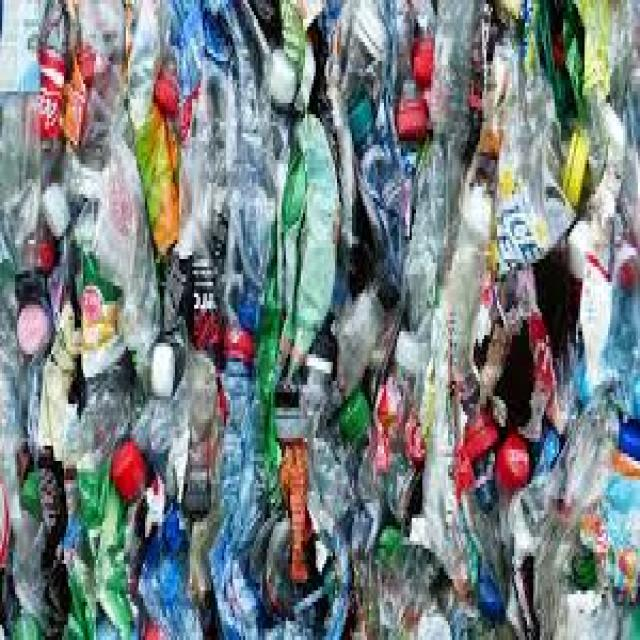plastic: (0, 0, 638, 636), (425, 172, 508, 617), (199, 0, 280, 324), (64, 122, 158, 366), (207, 320, 269, 636), (495, 0, 589, 202), (273, 107, 335, 377), (0, 0, 59, 274), (130, 335, 222, 507), (448, 381, 514, 617), (177, 57, 233, 335), (75, 427, 149, 636), (470, 271, 564, 435), (354, 324, 425, 526), (459, 141, 570, 270), (262, 492, 350, 637), (307, 0, 356, 251), (4, 503, 94, 636), (401, 149, 465, 332), (563, 214, 619, 393), (134, 495, 205, 636), (561, 69, 625, 214), (358, 518, 433, 636), (130, 99, 184, 251), (604, 0, 638, 240), (62, 0, 126, 126), (425, 0, 480, 141), (333, 0, 388, 141), (604, 415, 638, 636), (559, 392, 614, 526), (207, 503, 262, 636), (508, 480, 557, 629), (540, 526, 606, 636), (299, 381, 352, 510), (359, 141, 410, 274), (601, 240, 638, 411), (265, 0, 322, 107), (162, 0, 231, 88), (13, 293, 53, 438), (553, 0, 608, 103), (333, 278, 384, 389), (386, 0, 427, 130), (0, 255, 17, 560), (273, 438, 307, 583), (538, 328, 583, 434), (122, 0, 164, 107), (521, 396, 563, 495), (15, 465, 55, 556), (32, 46, 64, 137), (13, 297, 58, 358), (107, 435, 149, 496), (559, 126, 587, 217), (188, 263, 220, 339), (408, 0, 435, 88), (62, 42, 85, 145), (263, 46, 297, 111), (147, 53, 186, 107), (337, 385, 371, 446), (491, 423, 527, 480), (297, 324, 337, 373), (472, 553, 502, 618), (147, 331, 175, 400), (393, 80, 427, 133), (397, 411, 429, 465), (459, 400, 495, 446), (220, 320, 256, 366), (267, 396, 303, 442), (403, 27, 435, 76), (393, 328, 425, 373), (337, 92, 373, 130), (414, 598, 450, 636), (69, 46, 103, 84), (570, 533, 593, 583), (614, 415, 638, 461), (26, 233, 53, 271), (373, 514, 401, 549), (237, 286, 256, 335), (614, 240, 638, 278), (0, 484, 9, 568)
